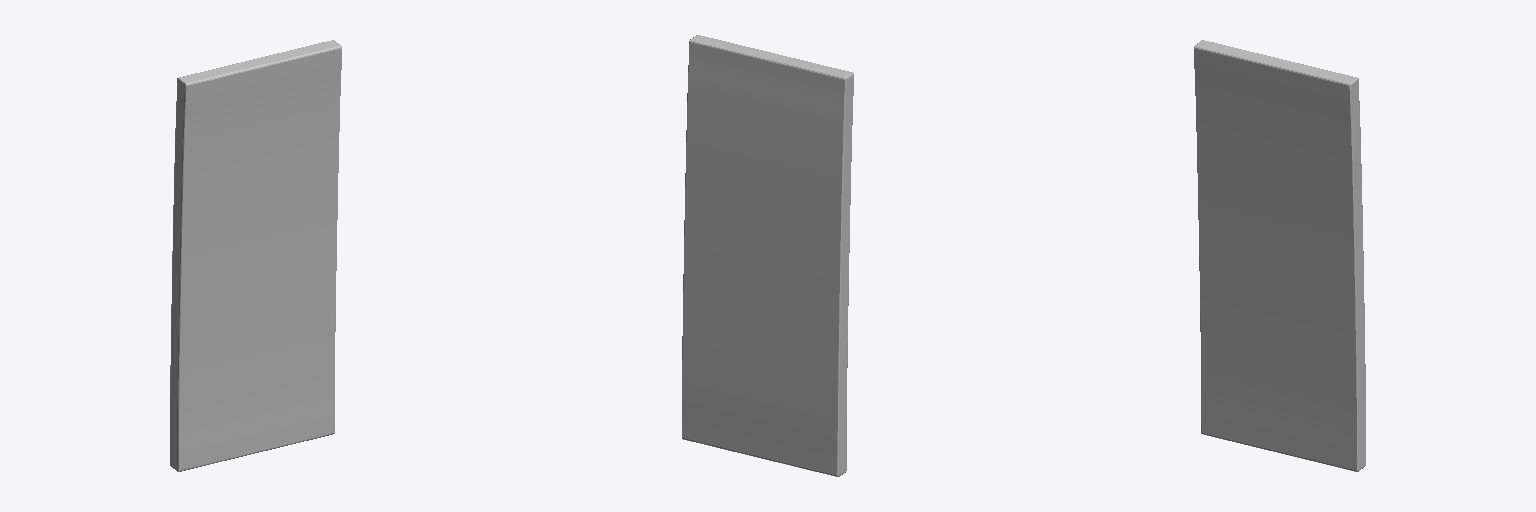
The model's file is light-container.obj.
3 renders of one model, left to right at view 1: azimuth 30°, elevation 25°; view 2: azimuth 150°, elevation 25°; view 3: azimuth 330°, elevation 25°, orthographic.
Visible parts, largest first — view 1: Switch-Switcher; view 2: Switch-Switcher; view 3: Switch-Switcher.
Part boxes in pixels (bbox=[...]): Switch-Switcher: bbox=[170, 40, 341, 471]; Switch-Switcher: bbox=[682, 35, 853, 476]; Switch-Switcher: bbox=[1194, 40, 1365, 471].
Size of the model in its own units: 1 by 2.4 by 0.1828.